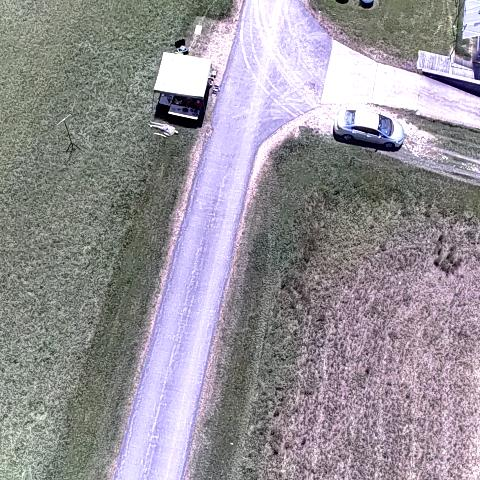person: (148, 121, 179, 136)
